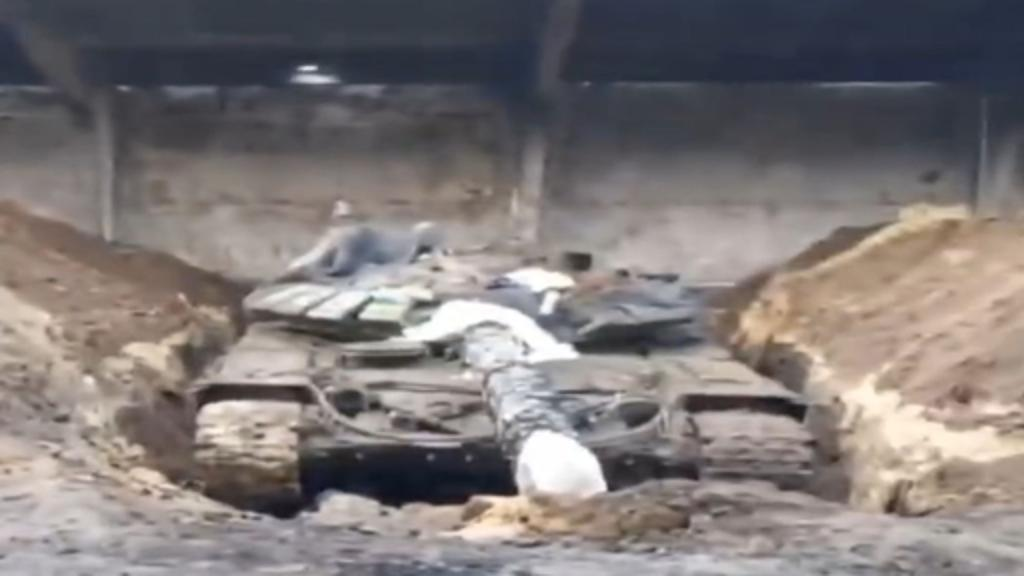TANK: (166, 170, 840, 558)
